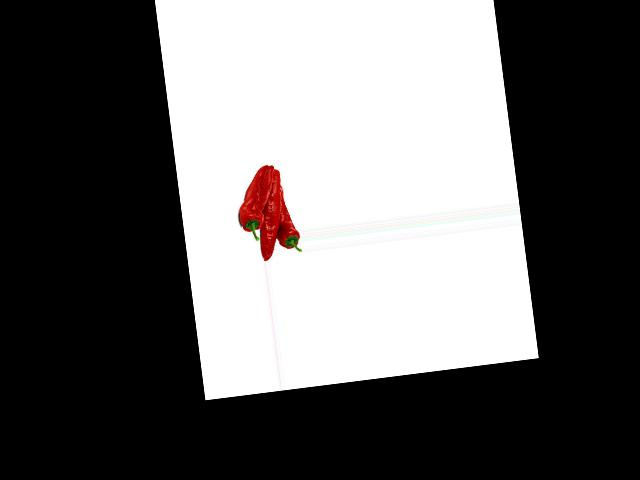bell_pepper: (230, 164, 274, 244)
